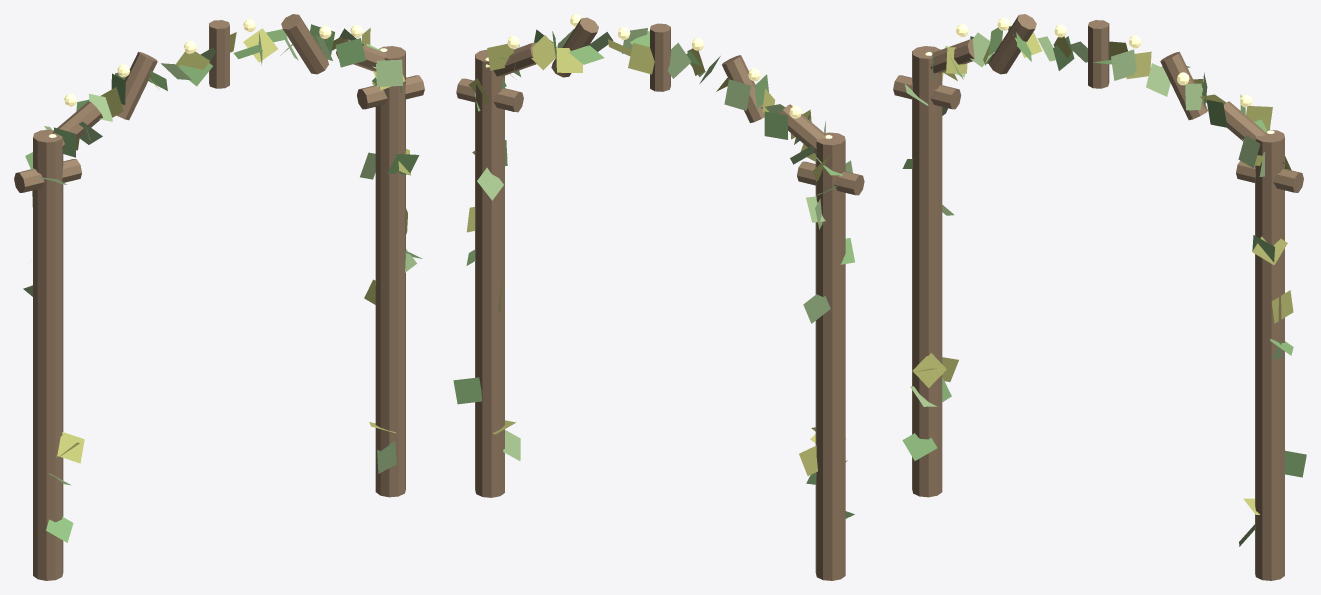
The model's file is ivy_arch.glb.
3 views of the same model, side by side, from view 1: azimuth 30°, elevation 25°; view 2: azimuth 150°, elevation 25°; view 3: azimuth 330°, elevation 25° (orthographic).
Parts seen in each view (by area): view 1: ivy_arch; view 2: ivy_arch; view 3: ivy_arch.
Part boxes in pixels (x1=…): ivy_arch: x1=14, y1=14, x2=424, y2=580; ivy_arch: x1=453, y1=14, x2=864, y2=580; ivy_arch: x1=893, y1=14, x2=1306, y2=580.
Bounding box in the file's own units: 2.1 × 2.55 × 0.3438.
